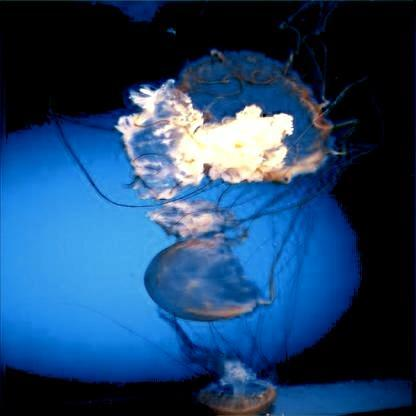Dressed: (113, 48, 355, 202), (141, 204, 271, 322), (183, 343, 275, 415)
